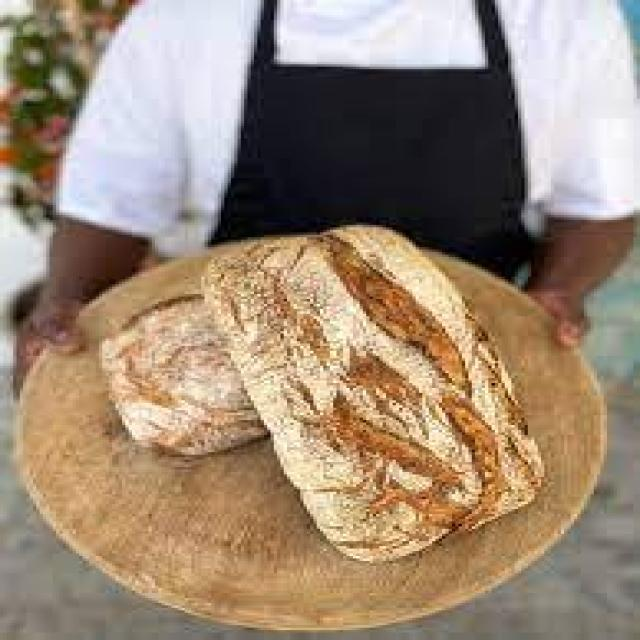Ciabatta: (201, 227, 541, 561), (99, 297, 264, 455)
